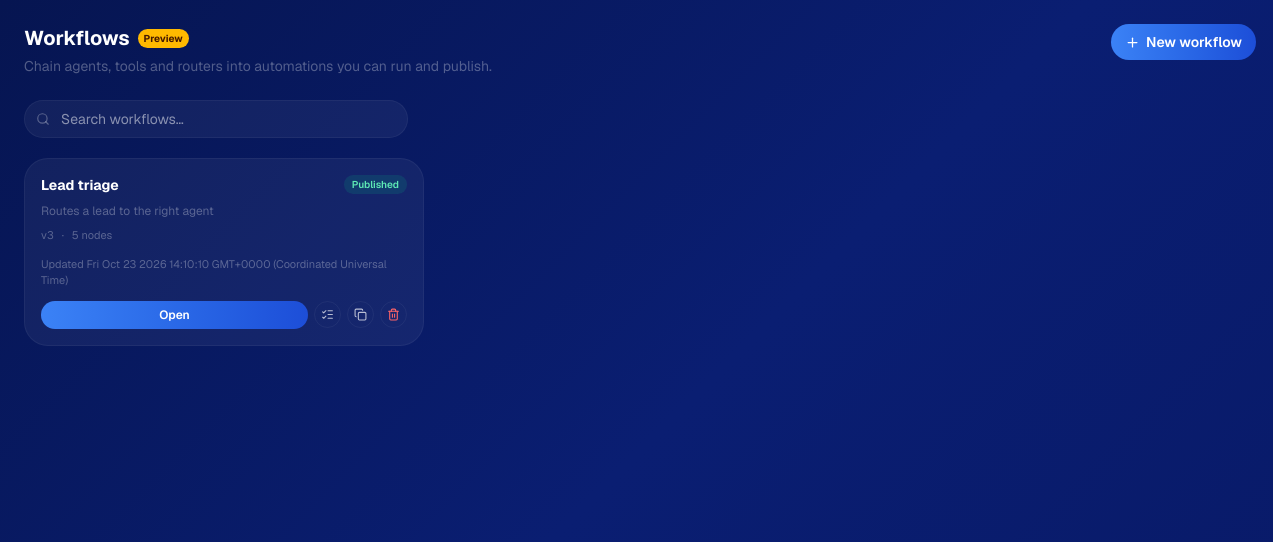
Test: WorkflowsPage › tells the user when duplicating fails
Expected: the heading "Lead triage" is shown, [41,176,119,194]
Click the button named "Duplicate": (360, 314) [347,301,374,328]
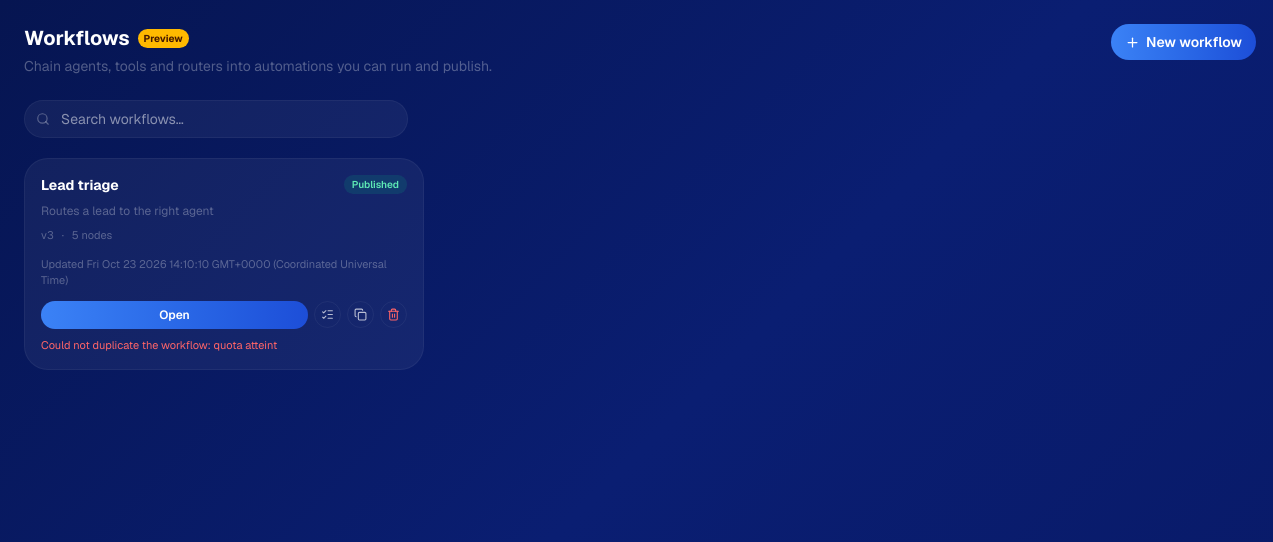
Expected: the message shows "quota atteint", [41,338,277,352]
